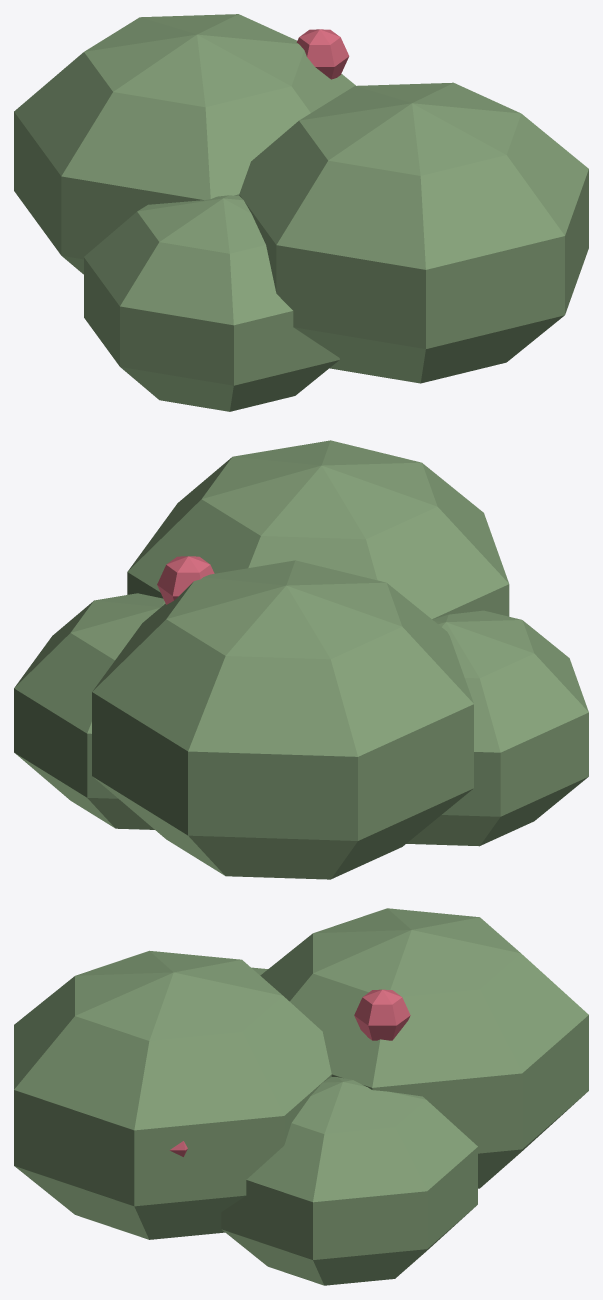
The model's file is bramble_berries.glb.
The picture shows the model from 3 angles, top to bottom: view 1: azimuth 30°, elevation 25°; view 2: azimuth 150°, elevation 25°; view 3: azimuth 270°, elevation 25°; orthographic projection. The views are drawn at different scales.
Parts seen in each view (by area): view 1: Leafball3, Leafball1, Leafball2, Berry3; view 2: Leafball1, Leafball3, Leafball2, Leafball0, Berry3; view 3: Leafball3, Leafball1, Leafball0, Berry3.
Part boxes in pixels (x1,y1,x2,y2): Leafball3: (239,82,588,383); Leafball1: (14,14,355,274); Leafball2: (84,195,339,411); Berry3: (296,29,349,79); Leafball1: (92,560,473,879); Leafball3: (127,440,509,619); Leafball2: (406,610,588,846); Leafball0: (14,593,165,829); Berry3: (157,556,214,604); Leafball3: (14,950,331,1239); Leafball1: (260,908,588,1188); Leafball0: (221,1077,477,1285); Berry3: (354,989,410,1040).
Size of the model in its own units: 0.6211 by 0.366 by 0.7124.
